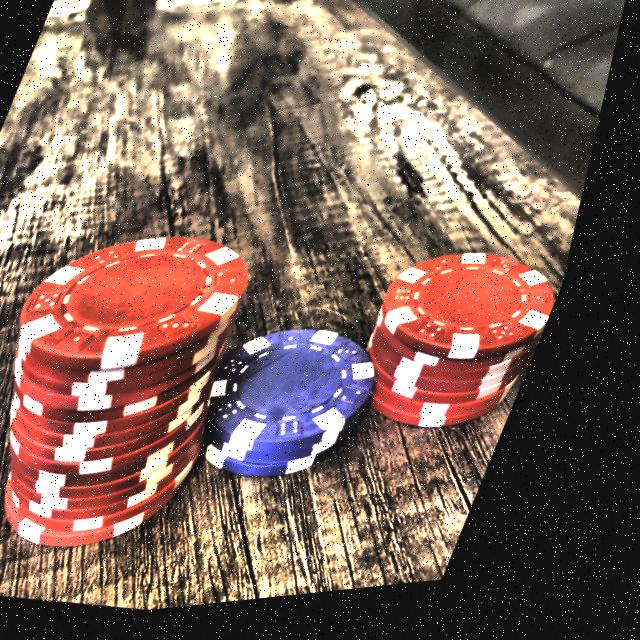Chip: (0, 168, 351, 602), (337, 205, 595, 478), (185, 293, 431, 524), (42, 0, 280, 70)
